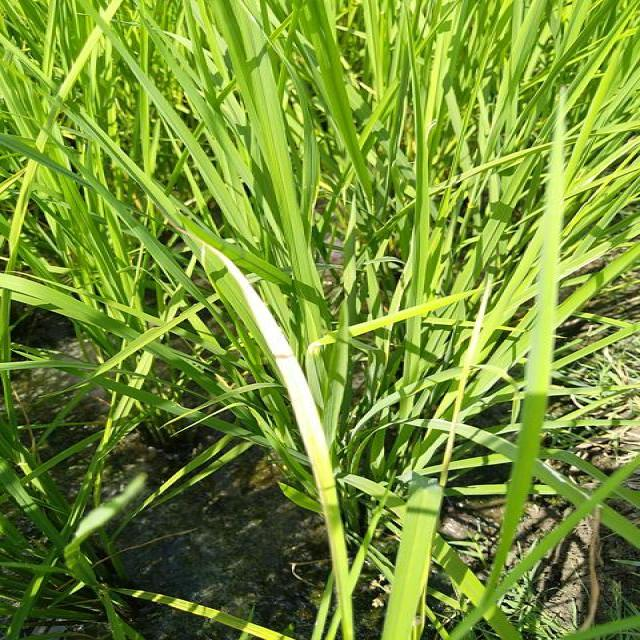Leaf Blight: (212, 250, 353, 639)
